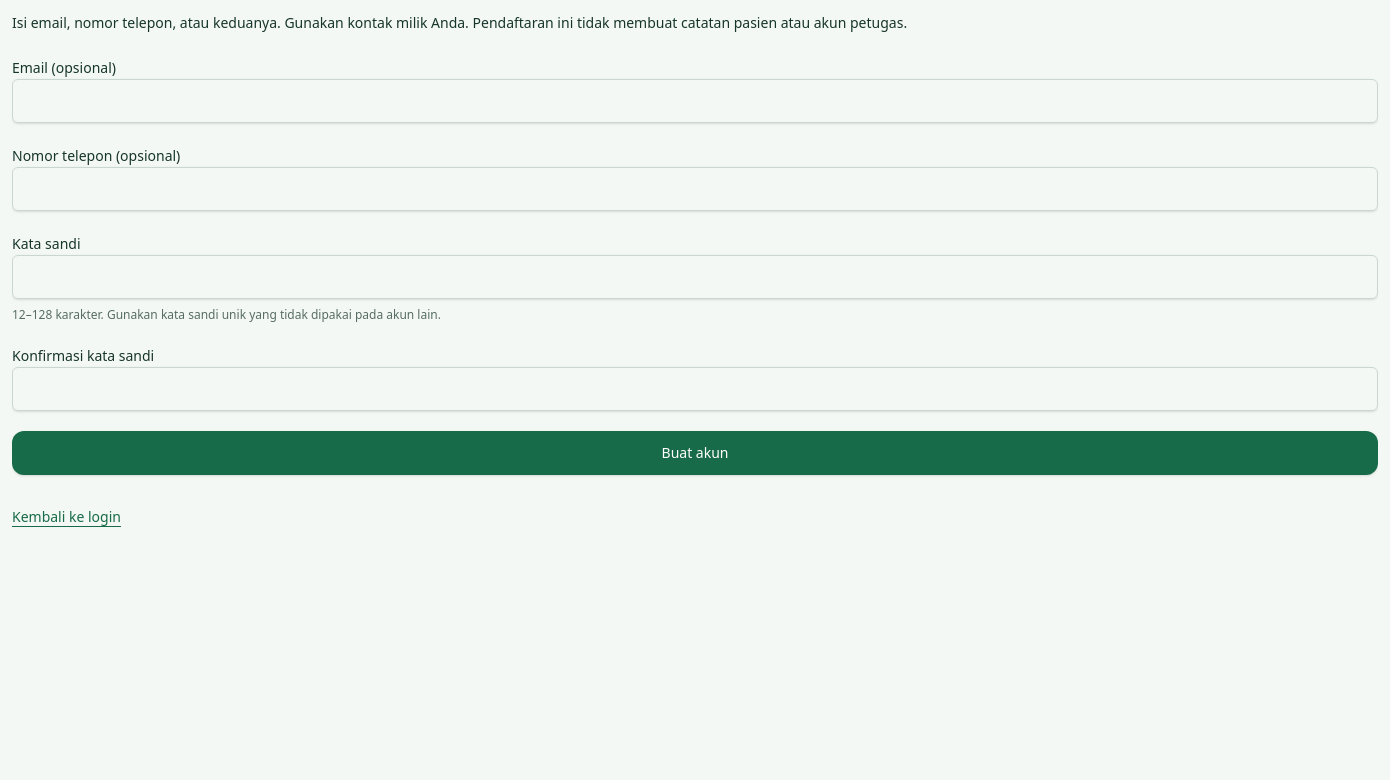
Test case: rejects incomplete password or contact (short)
The image size is (1390, 780).
Type "short" into the password field labelled "Kata sandi". click: [695, 277]
box: [12, 255, 1378, 299]
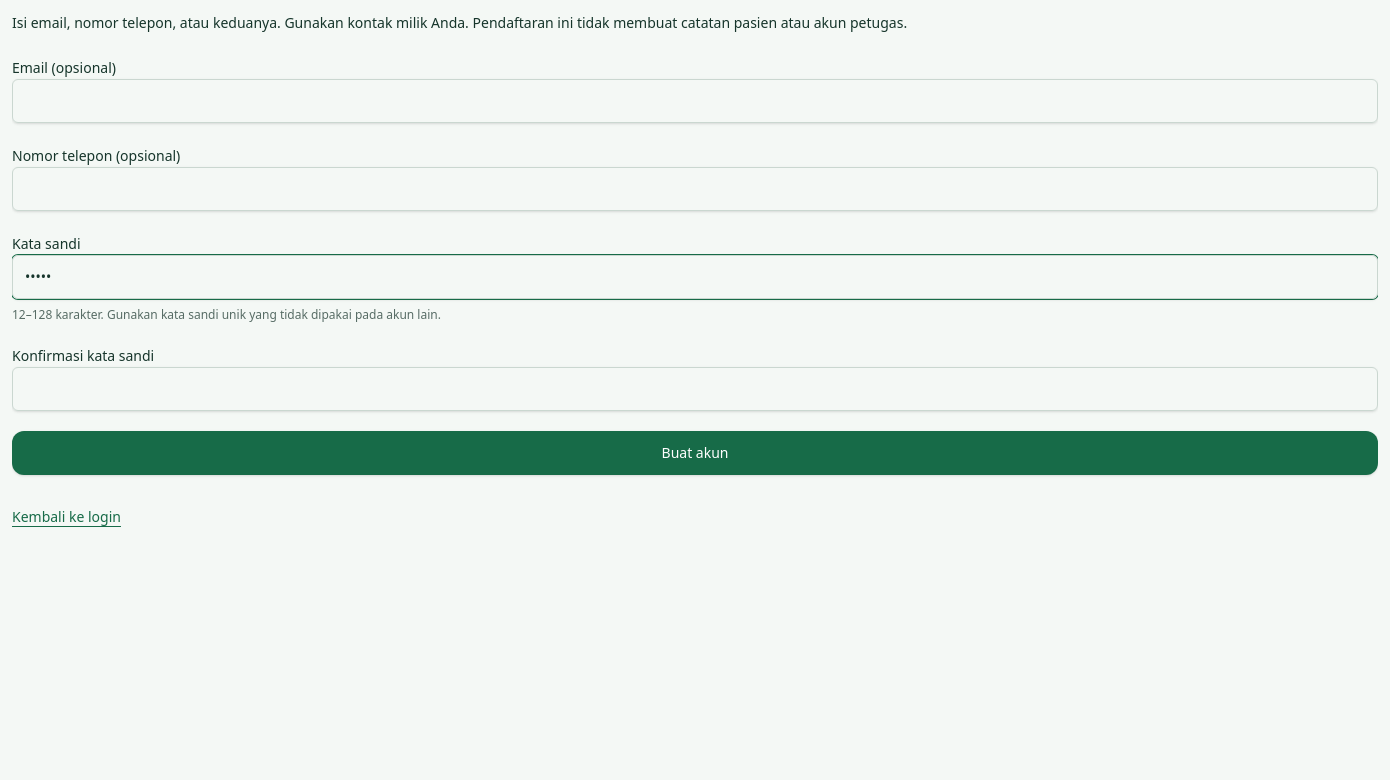
Click the button "Buat akun". click: [695, 453]
box: [12, 431, 1378, 475]
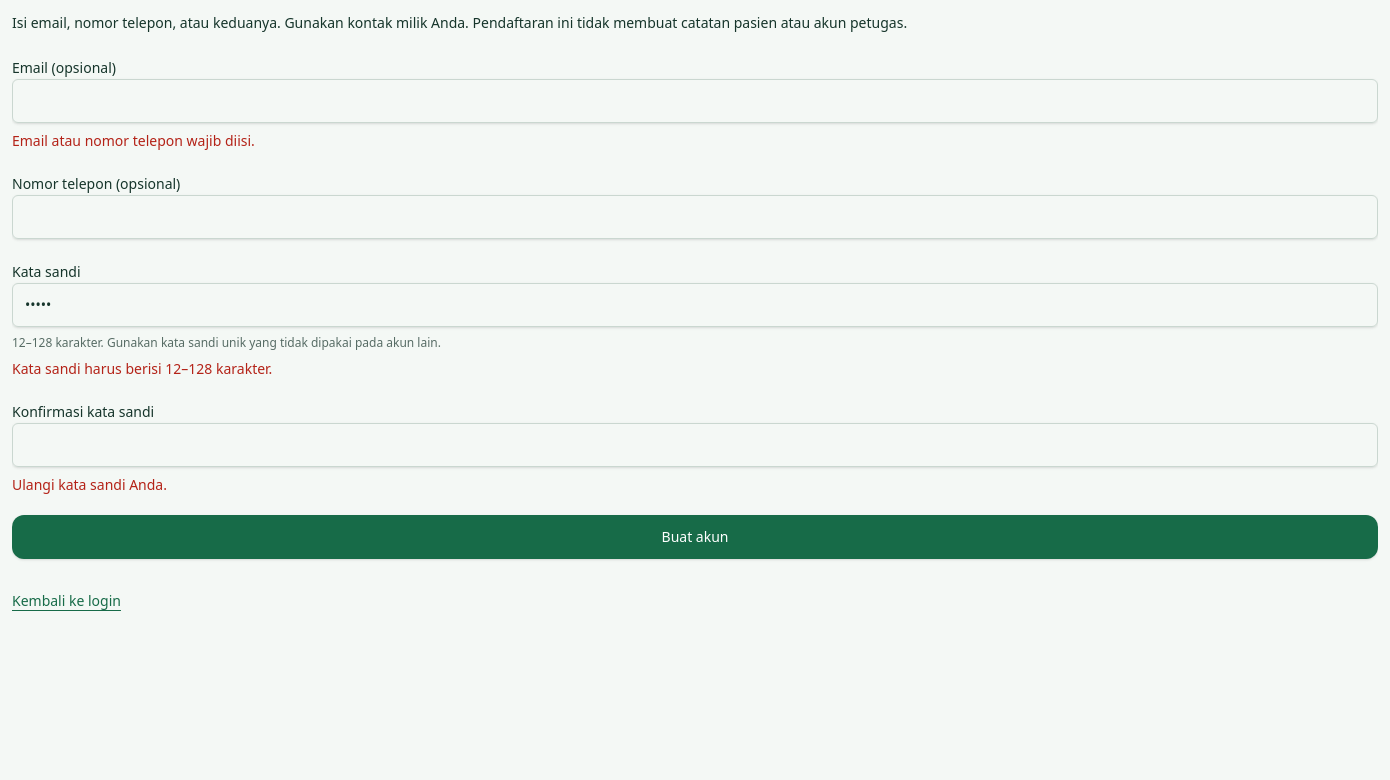
Now the text "Email atau nomor telepon wajib diisi." is shown, box [12, 131, 255, 150]
